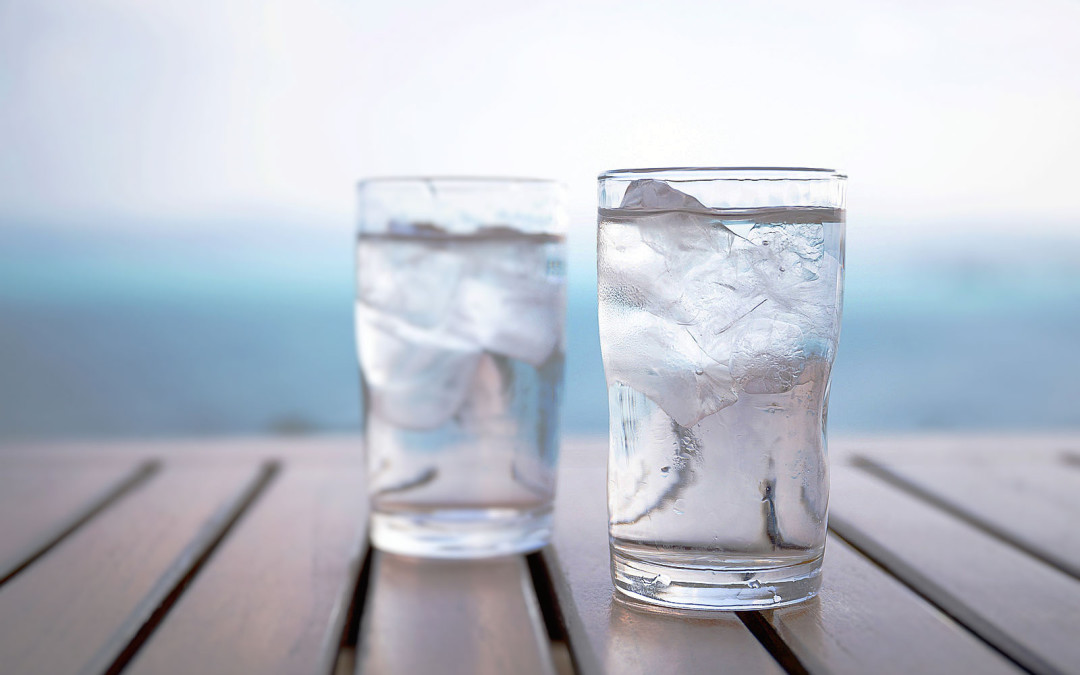glass of water: (599, 191, 828, 600), (366, 178, 542, 559)
